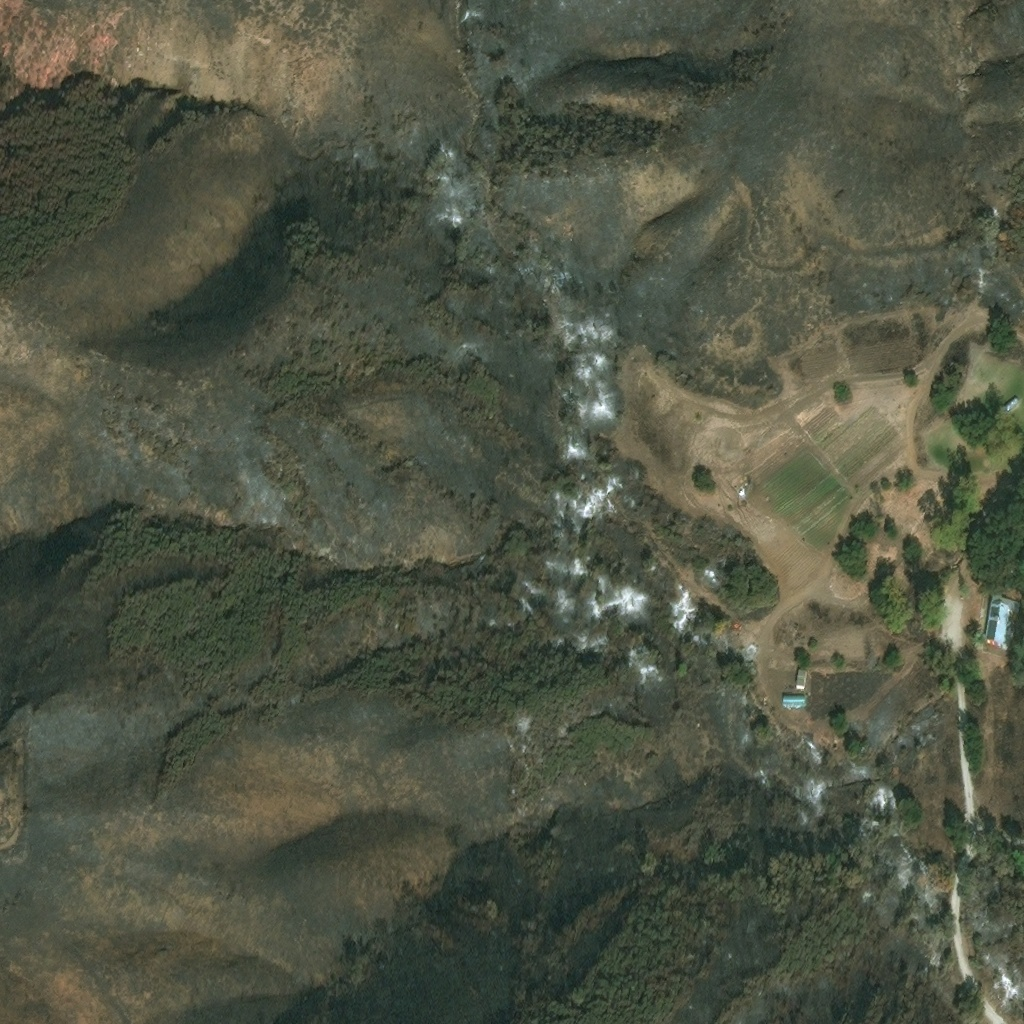0 no-damage: (981, 593, 1021, 652), (781, 697, 805, 709), (795, 671, 808, 692)
4 un-classified: (781, 674, 788, 690)
